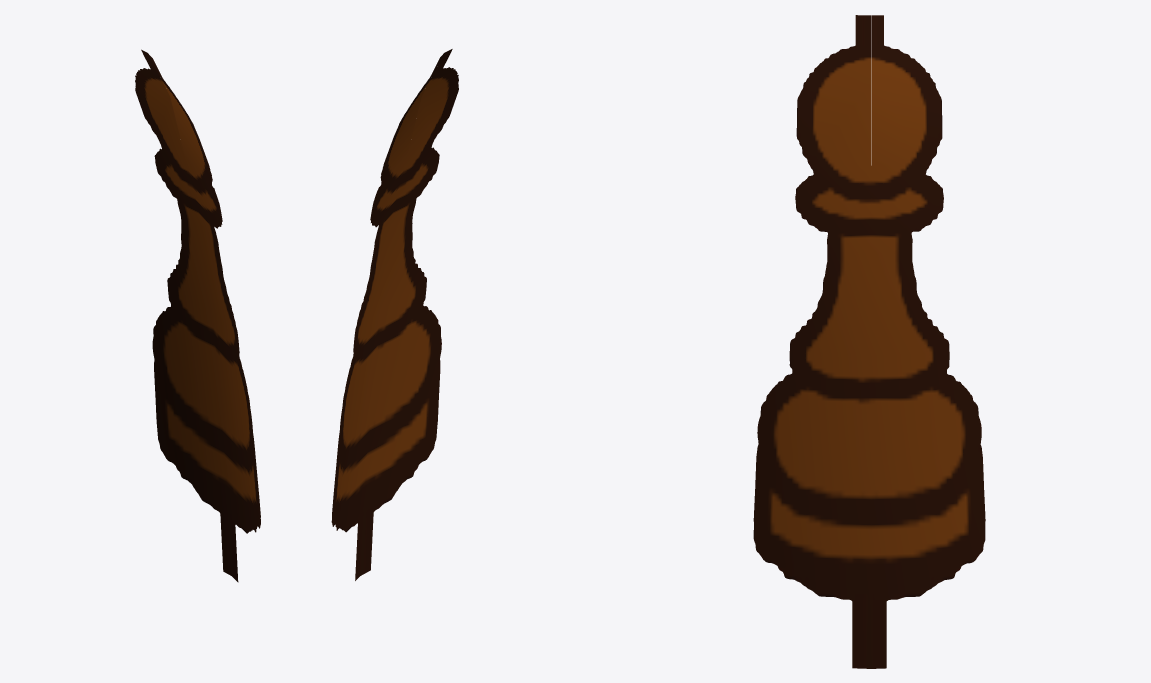
Rendered from Pawn.fbx.
The picture shows the model from 3 angles, left to right: view 1: azimuth 30°, elevation 25°; view 2: azimuth 150°, elevation 25°; view 3: azimuth 270°, elevation 25°; orthographic projection. The views are drawn at different scales.
Visible parts, largest first — view 1: Pawn; view 2: Pawn; view 3: Pawn.
Part boxes in pixels (x1,y1,x2,y2): Pawn: [135, 49, 260, 582]; Pawn: [331, 49, 458, 580]; Pawn: [753, 15, 985, 668].
Size of the model in its own units: 15 by 71.33 by 56.36.
